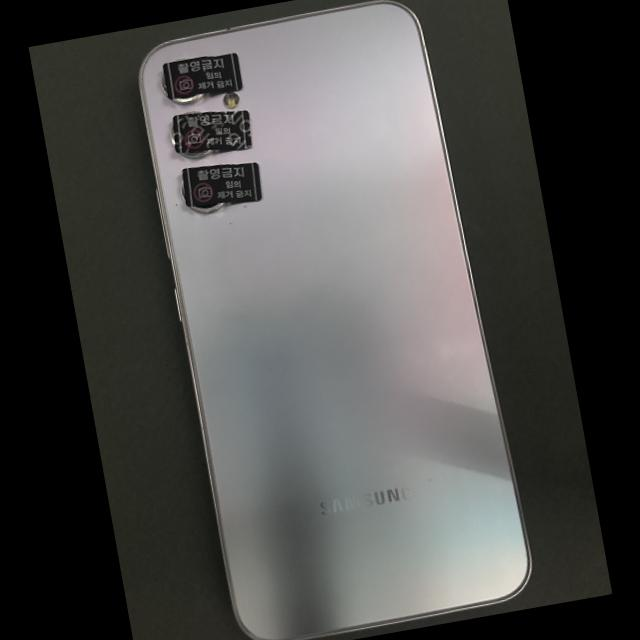lens: (191, 204, 223, 212), (182, 150, 212, 158), (174, 95, 201, 102)
phone: (138, 0, 533, 640)
sticker: (163, 52, 242, 99), (182, 162, 262, 206), (173, 110, 252, 152)
